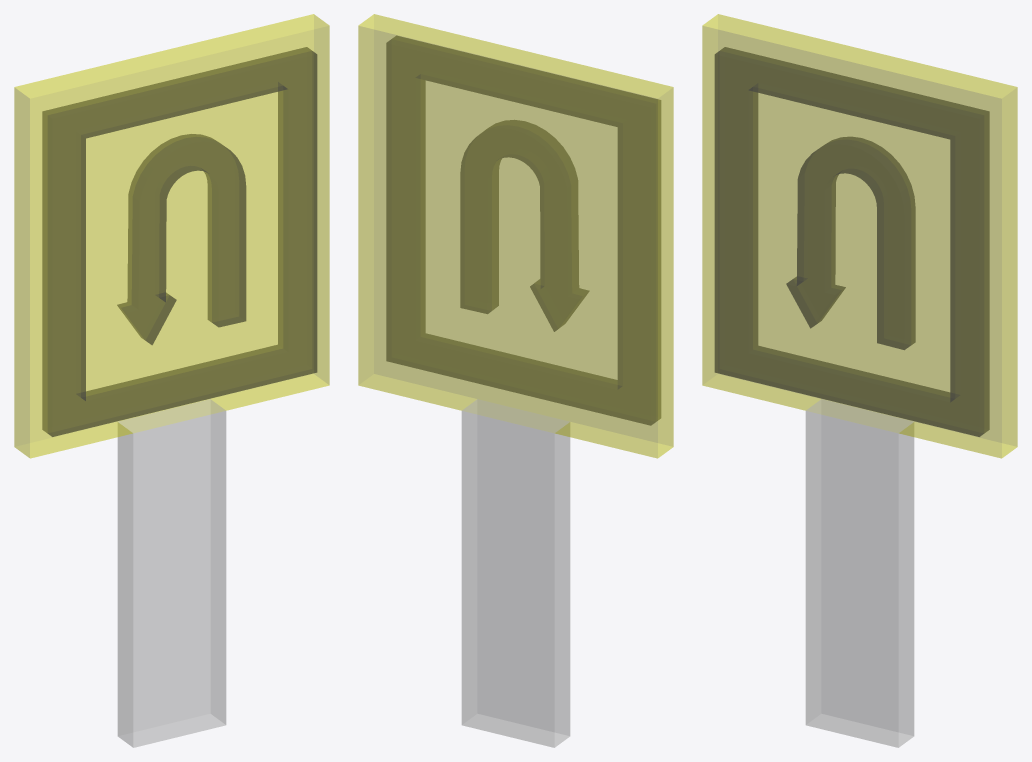
The model's file is Fade_U-turnfbx.fbx.
3 renders of one model, left to right at view 1: azimuth 30°, elevation 25°; view 2: azimuth 150°, elevation 25°; view 3: azimuth 330°, elevation 25°, orthographic.
Parts seen in each view (by area): view 1: U-turn; view 2: U-turn; view 3: U-turn.
Part boxes in pixels (bbox=[...]): U-turn: bbox=[14, 14, 329, 747]; U-turn: bbox=[358, 14, 673, 747]; U-turn: bbox=[702, 14, 1017, 747].
Size of the model in its own units: 108 by 232 by 14.25.
